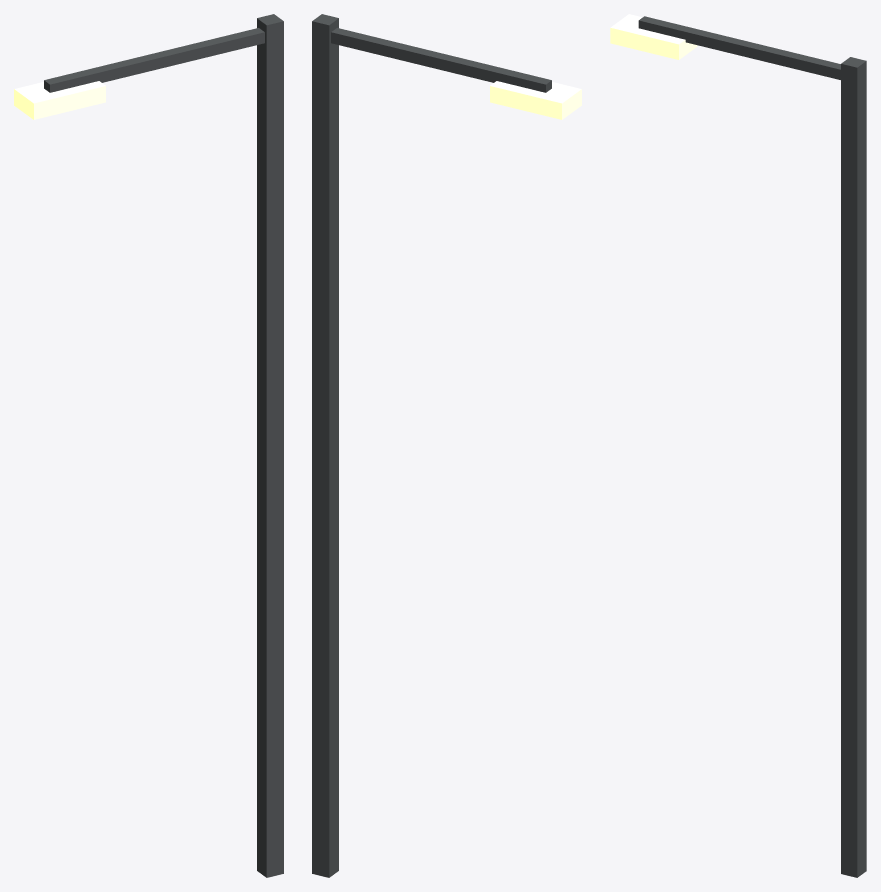
Rendered from street-lamp.glb.
The picture shows the model from 3 angles, left to right: view 1: azimuth 30°, elevation 25°; view 2: azimuth 150°, elevation 25°; view 3: azimuth 330°, elevation 25°; orthographic projection. The views are drawn at different scales.
Parts seen in each view (by area): view 1: 00_#5a5e60, 01_#5a5e60_noshadow_r320, 02_#ffe2a0_noshadow; view 2: 00_#5a5e60, 01_#5a5e60_noshadow_r320, 02_#ffe2a0_noshadow; view 3: 00_#5a5e60, 01_#5a5e60_noshadow_r320, 02_#ffe2a0_noshadow.
Part boxes in pixels (<box>): 00_#5a5e60: <box>257,14,283,877</box>; 01_#5a5e60_noshadow_r320: <box>44,28,264,92</box>; 02_#ffe2a0_noshadow: <box>14,81,105,119</box>; 00_#5a5e60: <box>312,14,338,877</box>; 01_#5a5e60_noshadow_r320: <box>331,28,551,92</box>; 02_#ffe2a0_noshadow: <box>490,81,581,119</box>; 00_#5a5e60: <box>841,57,866,877</box>; 01_#5a5e60_noshadow_r320: <box>638,16,840,79</box>; 02_#ffe2a0_noshadow: <box>610,14,697,59</box>.
Size of the model in its own units: 1.94 by 6.2 by 0.26.
